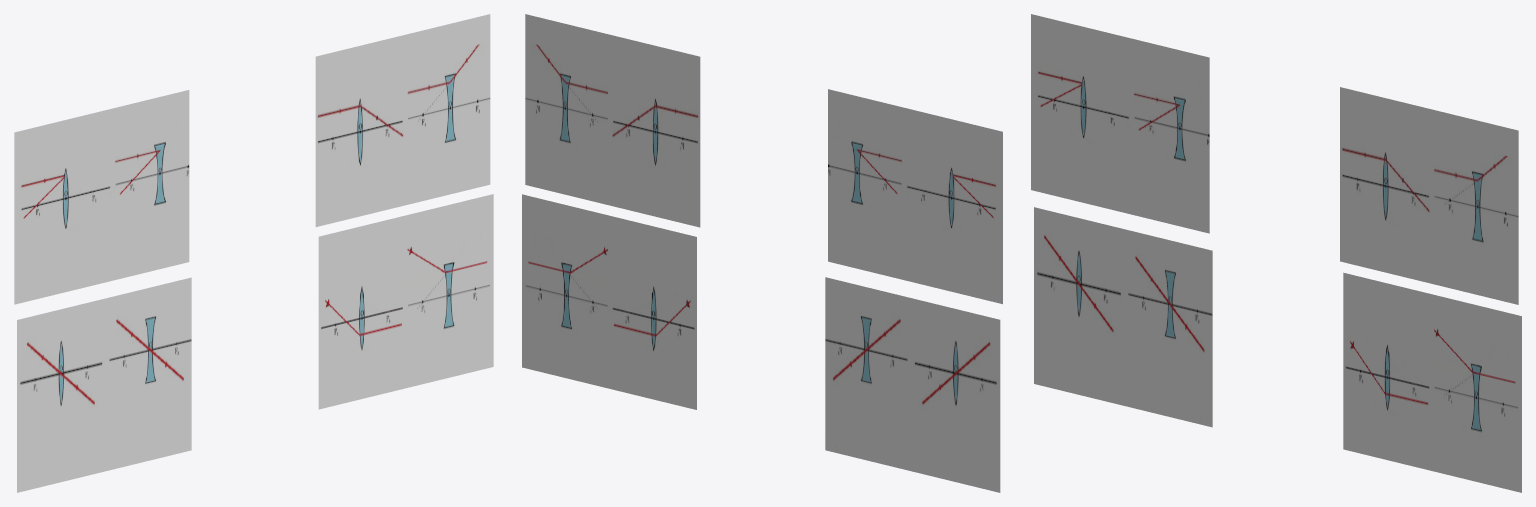
File: rulesfb.fbx
3 views of the same model, side by side, from view 1: azimuth 30°, elevation 25°; view 2: azimuth 150°, elevation 25°; view 3: azimuth 330°, elevation 25° (orthographic). The views are drawn at different scales.
Parts seen in each view (by area): view 1: three, four, two, one; view 2: two, three, four, one; view 3: two, three, four, one.
Part boxes in pixels (x1,y1,x2,y2): three: [318, 194, 493, 409]; four: [14, 90, 189, 304]; two: [17, 277, 191, 492]; one: [315, 14, 490, 226]; two: [825, 277, 1000, 492]; three: [522, 194, 696, 409]; four: [828, 89, 1002, 304]; one: [525, 14, 700, 227]; two: [1034, 207, 1212, 427]; three: [1343, 272, 1521, 492]; four: [1031, 14, 1209, 233]; one: [1340, 87, 1518, 304].
Bounding box in the file's own units: 206 × 149 × 0.4289.
1 material, 1 textured.
